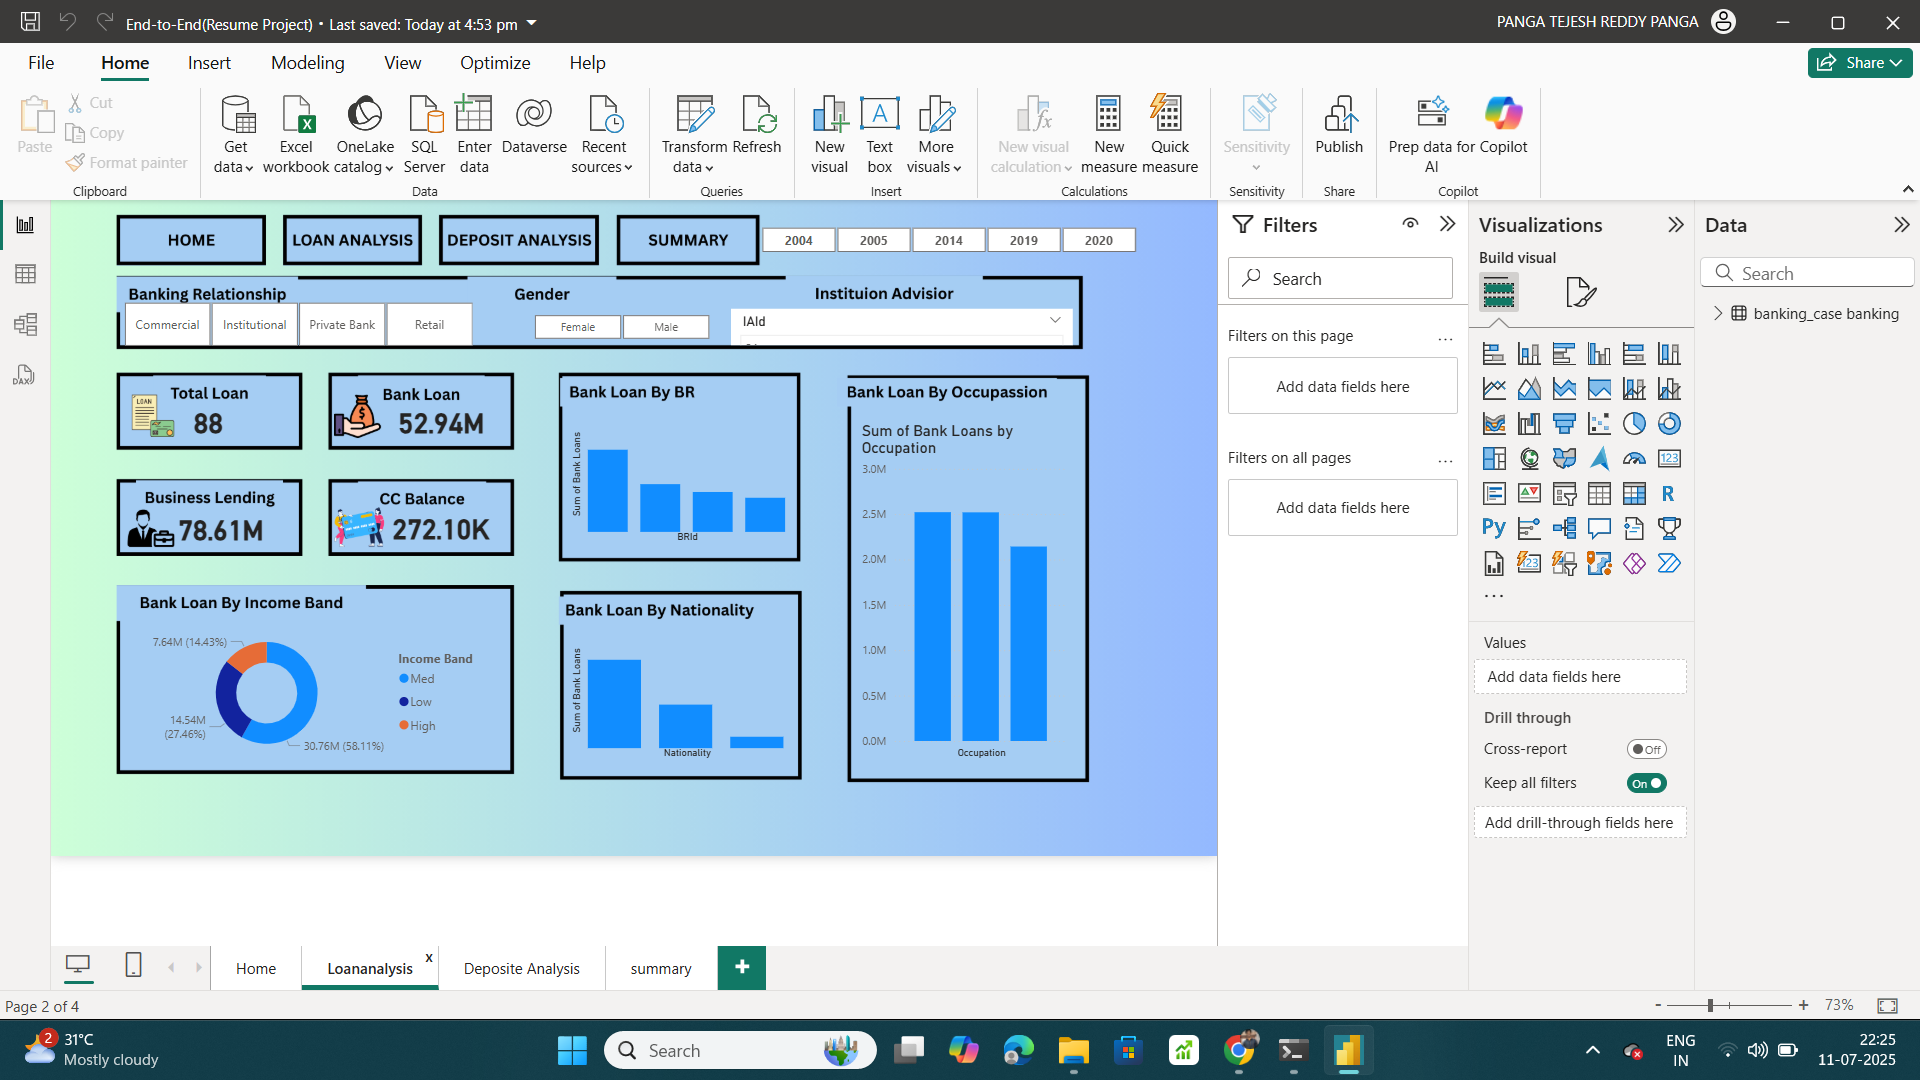

Layout of this report page (visuals, bound fields, positions):
{"tool":"powerbi","page":{"name":"Loananalysis","canvas":[1280,720],"ordinal":1},"visuals":[{"type":"slicer","fields":{"Values":["banking_case banking.year of joining"]},"box":[755,23.3,460,40],"z":0},{"type":"actionButton","box":[78.3,23.3,148.3,40],"z":1000},{"type":"actionButton","box":[258.3,23.3,143.3,40],"z":2000},{"type":"actionButton","box":[428.3,23.3,168.3,40],"z":3000},{"type":"actionButton","box":[626.7,23.3,145,40],"z":4000},{"type":"card","fields":{"Values":["CountNonNull(banking_case banking.Name)"]},"box":[88.3,223.3,170,38.3],"z":5000},{"type":"card","fields":{"Values":["Sum(banking_case banking.Bank Loans)"]},"box":[343.3,223.3,170,38.3],"z":6000},{"type":"card","fields":{"Values":["Sum(banking_case banking.Business Lending)"]},"box":[101.7,341.7,170,38.3],"z":7000},{"type":"card","fields":{"Values":["Sum(banking_case banking.Credit Card Balance)"]},"box":[343.3,340,170,38.3],"z":8000},{"type":"donutChart","fields":{"Category":["banking_case banking.Income Band"],"Y":["Sum(banking_case banking.Bank Loans)"]},"box":[88.3,463.3,398.3,155],"z":9000},{"type":"columnChart","fields":{"Category":["banking_case banking.BRId"],"Y":["Sum(banking_case banking.Bank Loans)"]},"box":[566.7,223.3,246.7,156.7],"z":10000},{"type":"columnChart","fields":{"Y":["Sum(banking_case banking.Bank Loans)"],"Category":["banking_case banking.Nationality"]},"box":[566.7,461.7,246.7,156.7],"z":11000},{"type":"columnChart","fields":{"Category":["banking_case banking.Occupation"],"Y":["Sum(banking_case banking.Bank Loans)"]},"box":[885,243.3,236.7,375],"z":12000},{"type":"slicer","fields":{"Values":["banking_case banking.BRId"]},"box":[55,105,431.7,61.7],"z":13000},{"type":"slicer","fields":{"Values":["banking_case banking.GenderId"]},"box":[505,120,241.7,40],"z":14000},{"type":"slicer","fields":{"Values":["banking_case banking.IAId"]},"box":[746.7,120,375,40],"z":15000},{"type":"actionButton","box":[428.3,23.3,168.3,40],"z":15001}]}

Visuals, with their boxes on the page's 1280x720 design canvas (x1, y1, x2, y2). These are canvas units, not pixel positions in the 1920x1080 screenshot, which may show the page scaled, cropped or inside an application window:
slicer - banking_case banking.year of joining: l=755, t=23, r=1215, b=63
actionButton: l=78, t=23, r=227, b=63
actionButton: l=258, t=23, r=402, b=63
actionButton: l=428, t=23, r=597, b=63
actionButton: l=627, t=23, r=772, b=63
card - CountNonNull(banking_case banking.Name): l=88, t=223, r=258, b=262
card - Sum(banking_case banking.Bank Loans): l=343, t=223, r=513, b=262
card - Sum(banking_case banking.Business Lending): l=102, t=342, r=272, b=380
card - Sum(banking_case banking.Credit Card Balance): l=343, t=340, r=513, b=378
donutChart - banking_case banking.Income Band x Sum(banking_case banking.Bank Loans): l=88, t=463, r=487, b=618
columnChart - banking_case banking.BRId x Sum(banking_case banking.Bank Loans): l=567, t=223, r=813, b=380
columnChart - Sum(banking_case banking.Bank Loans) x banking_case banking.Nationality: l=567, t=462, r=813, b=618
columnChart - banking_case banking.Occupation x Sum(banking_case banking.Bank Loans): l=885, t=243, r=1122, b=618
slicer - banking_case banking.BRId: l=55, t=105, r=487, b=167
slicer - banking_case banking.GenderId: l=505, t=120, r=747, b=160
slicer - banking_case banking.IAId: l=747, t=120, r=1122, b=160
actionButton: l=428, t=23, r=597, b=63
